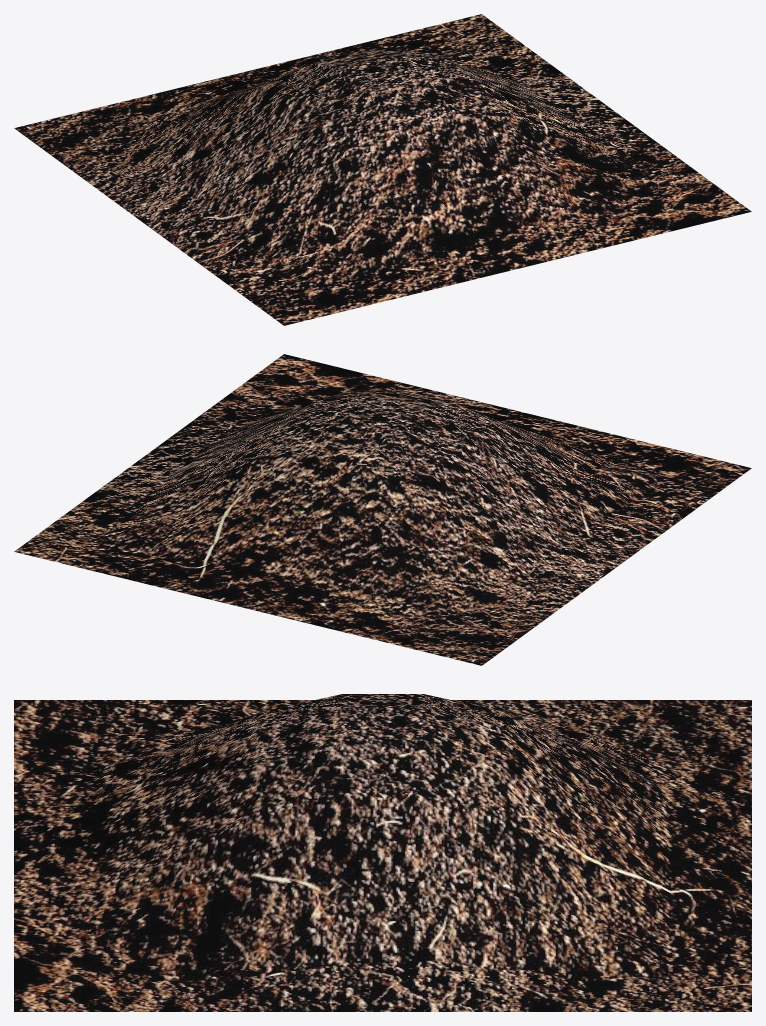
File: Dirt Pile.fbx
3 renders of one model, top to bottom at view 1: azimuth 30°, elevation 25°; view 2: azimuth 150°, elevation 25°; view 3: azimuth 270°, elevation 25°, orthographic. The views are drawn at different scales.
Parts seen in each view (by area): view 1: Dirt Pile; view 2: Dirt Pile; view 3: Dirt Pile.
Part boxes in pixels (x1=…): Dirt Pile: x1=14, y1=14, x2=751, y2=325; Dirt Pile: x1=14, y1=354, x2=751, y2=665; Dirt Pile: x1=14, y1=694, x2=751, y2=1011.
Size of the model in its own units: 200 by 39.39 by 200.
Materials: 1 (1 with a texture image).
